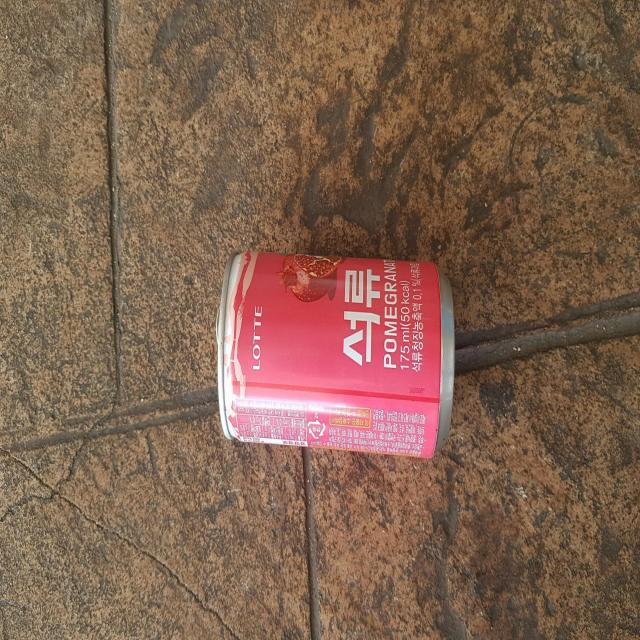can: (216, 250, 455, 457)
